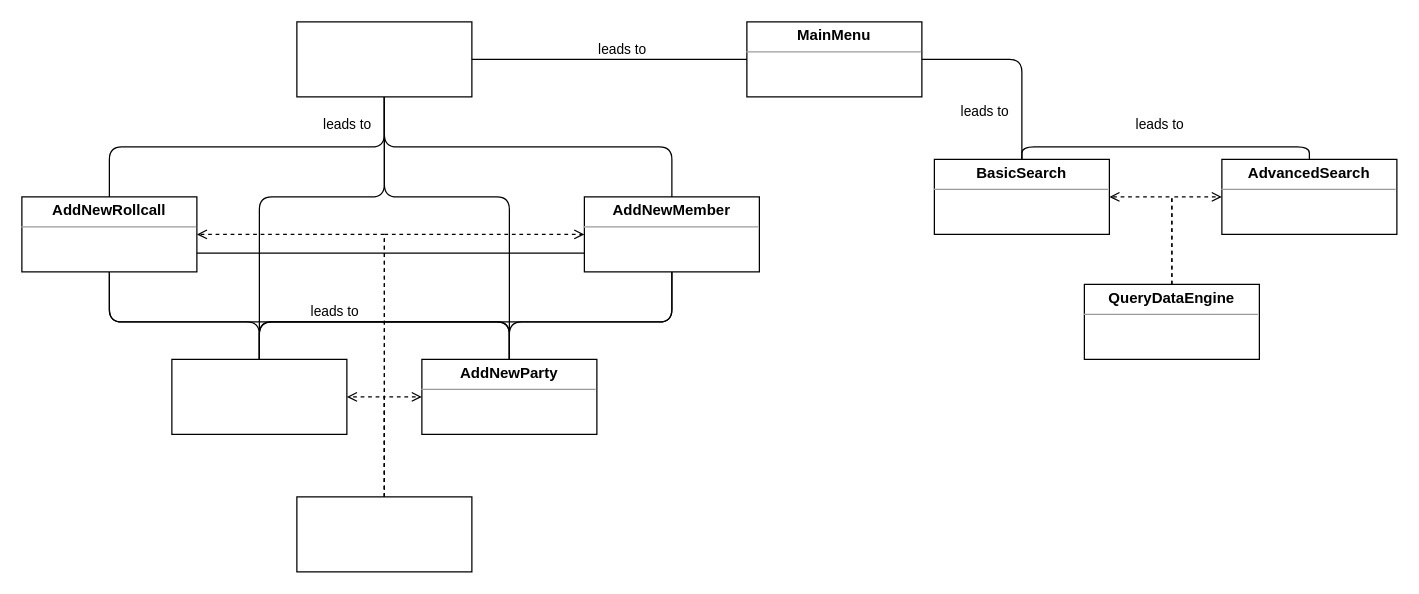
This 1419x594 diagram has some shape labels left out. The centre of each missing label's shape, as x and y in pixels:
"AddDataEngine" goes at point (384, 534).
"AddNewVote" goes at point (259, 396).
"EnterDataMenu" goes at point (384, 59).
